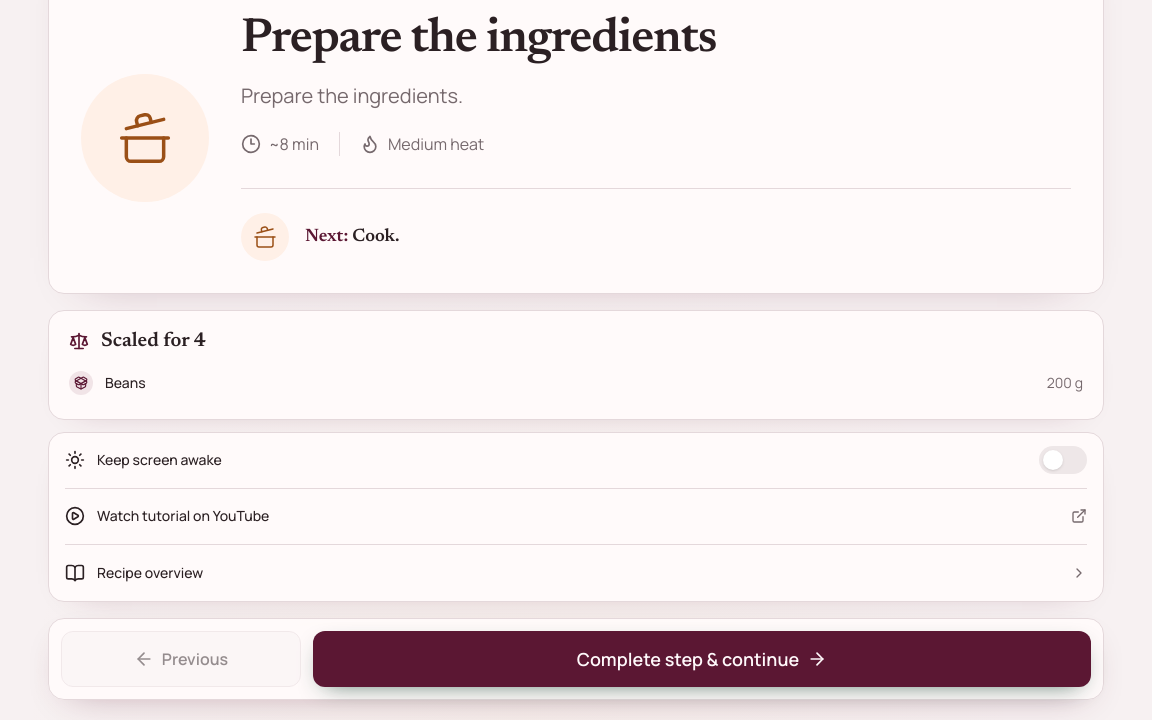
GuidedCookMode › scales ingredients and saves a completed step before moving forward
(page scrolled)
Expected: the text "200 g" is shown, [1047,373,1083,393]
Expected: the text "Prepare the ingredients." is shown, [241,82,463,109]
Click the button "Complete step & continue".
click(702, 659)  # box [313,631,1091,687]
(page scrolled)
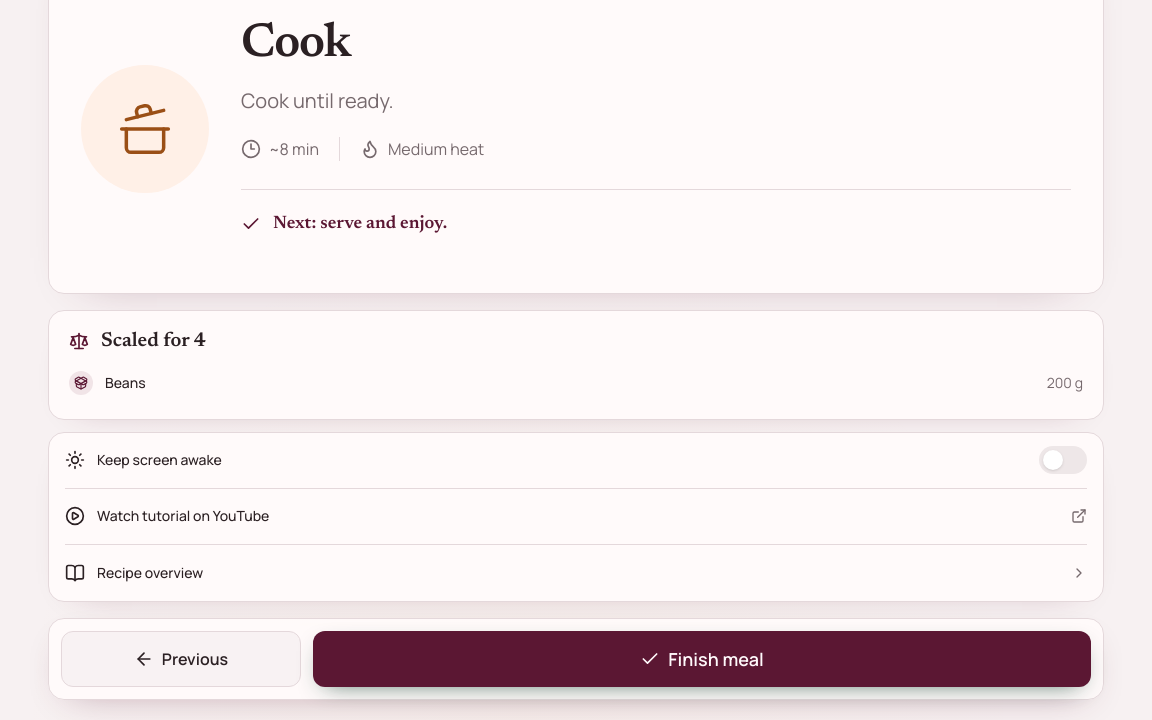
Expected: the text "Cook until ready." is shown, [241,87,394,114]
